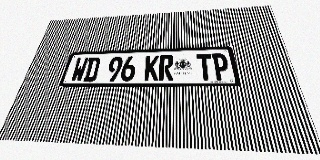6: (120, 56, 137, 81)
9: (106, 56, 123, 81)
D: (83, 57, 101, 82)
K: (144, 55, 159, 81)
P: (211, 53, 230, 80)
R: (158, 55, 173, 81)
T: (196, 54, 214, 80)
W: (70, 57, 89, 82)
